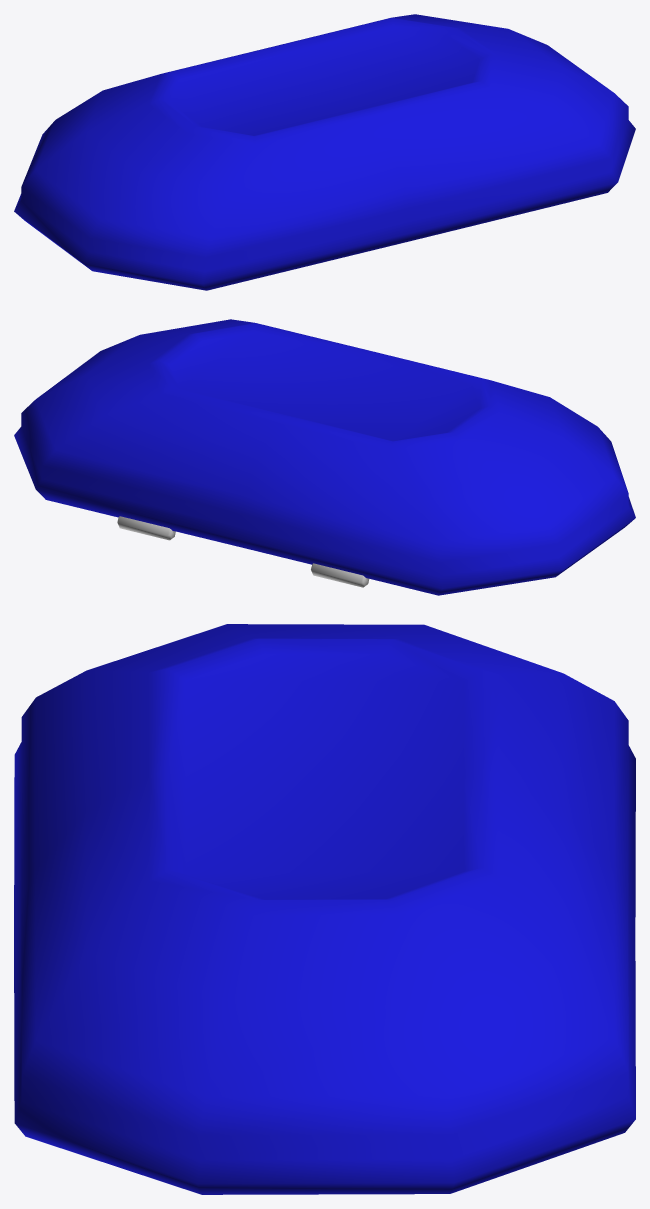
Rendered from dfk_chest_02_top.fbx.
3 renders of one model, top to bottom at view 1: azimuth 30°, elevation 25°; view 2: azimuth 150°, elevation 25°; view 3: azimuth 270°, elevation 25°, orthographic. The views are drawn at different scales.
Parts seen in each view (by area): view 1: Chest_02_top; view 2: Chest_02_top; view 3: Chest_02_top.
Boxes of the visible parts, <box> form: Chest_02_top: <box>14,14,635,290</box>; Chest_02_top: <box>14,319,635,595</box>; Chest_02_top: <box>14,624,635,1194</box>.
Size of the model in its own units: 0.888 by 0.1754 by 0.4772.
